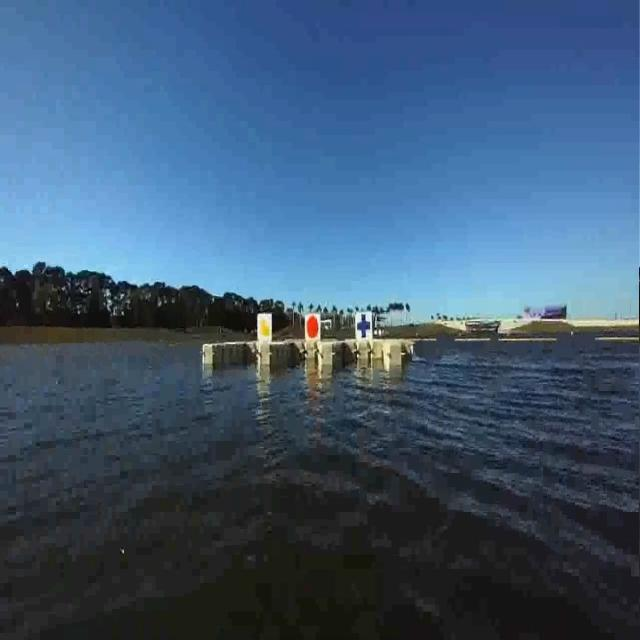blue-cross: (355, 312, 376, 347)
red-dot: (306, 317, 318, 340)
yellow-duck: (262, 319, 273, 338)
